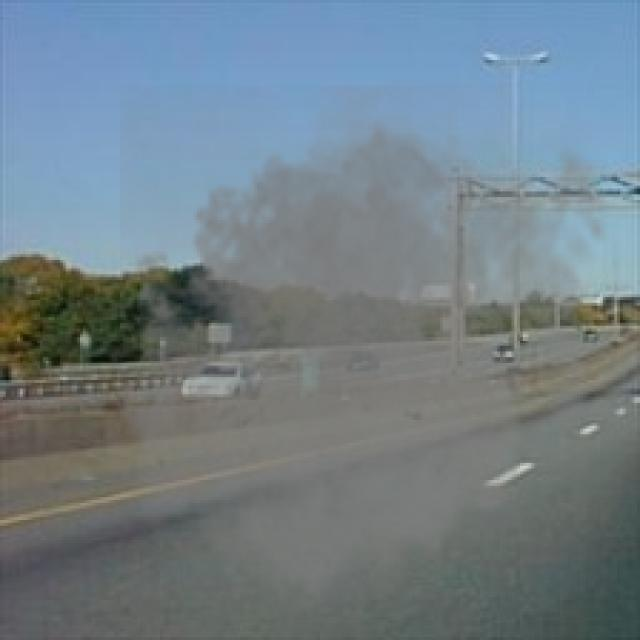Smoke: (108, 86, 623, 634)
